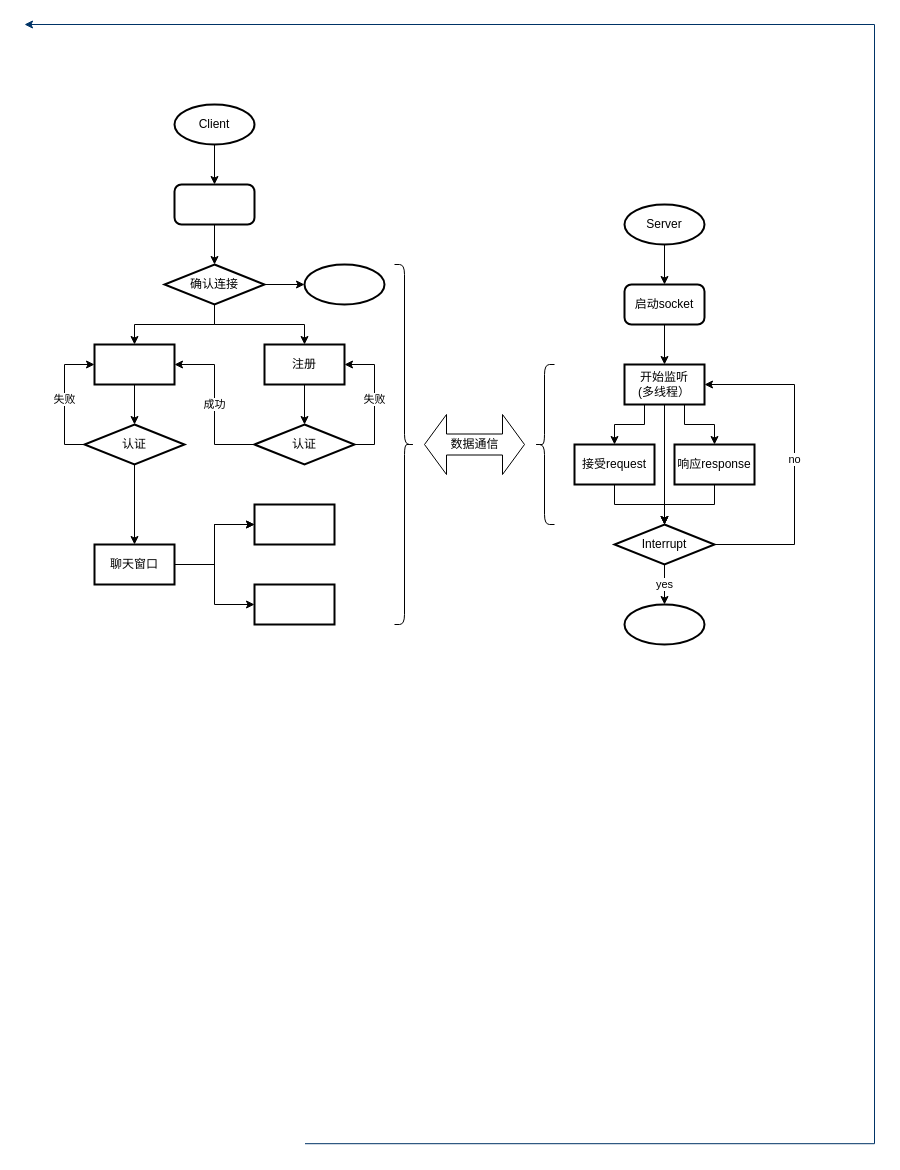
Some shapes in this 900 by 1170 pixel diagram are drawn without their labels. Here are the shapes that lost their labels. From the top down, the centre of each, then its label:
At pixel 214 204: "socket建立连接".
At pixel 344 284: "报错".
At pixel 134 364: "登录".
At pixel 294 524: "世界聊天".
At pixel 294 604: "1对1私聊".
At pixel 664 624: "结束".
